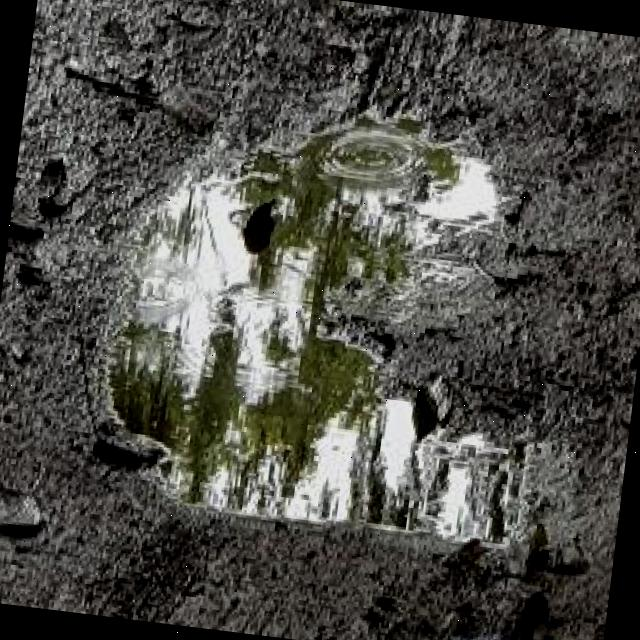stagnation: (71, 68, 601, 578)
